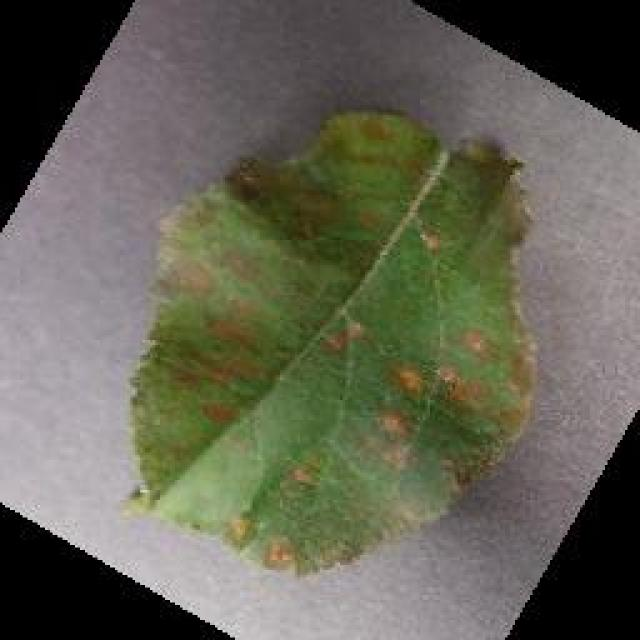Apple___Cedar_apple_rust: (111, 104, 548, 588)
